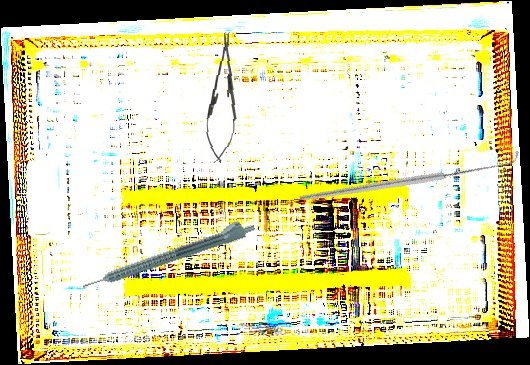Handpiece: (78, 214, 257, 293)
Hook Surgical: (297, 83, 521, 269)
Needle Holder: (203, 30, 243, 164)
